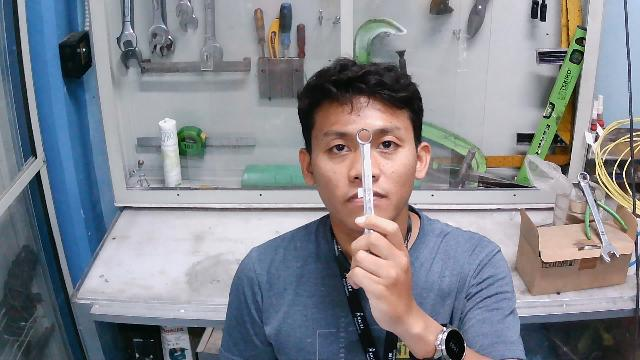kunci_pass_13: (341, 124, 397, 272)
